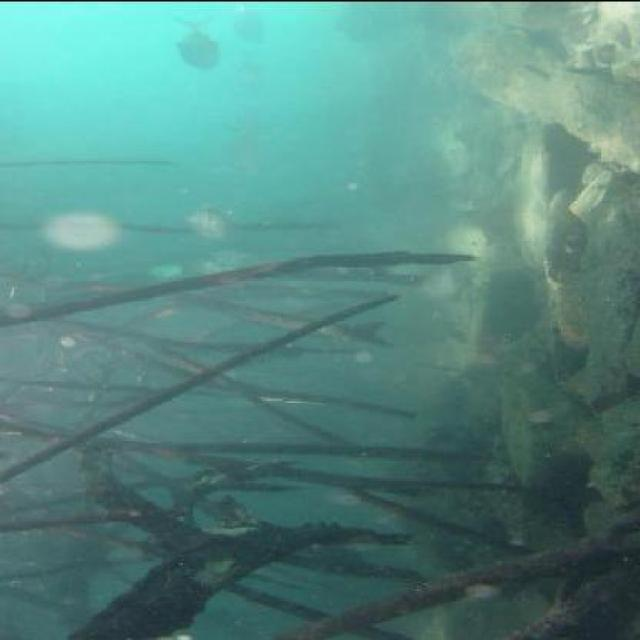Caranx_sexfasciatus_juvenile: (172, 194, 240, 243), (171, 8, 226, 66), (224, 30, 270, 84), (207, 245, 259, 267)
